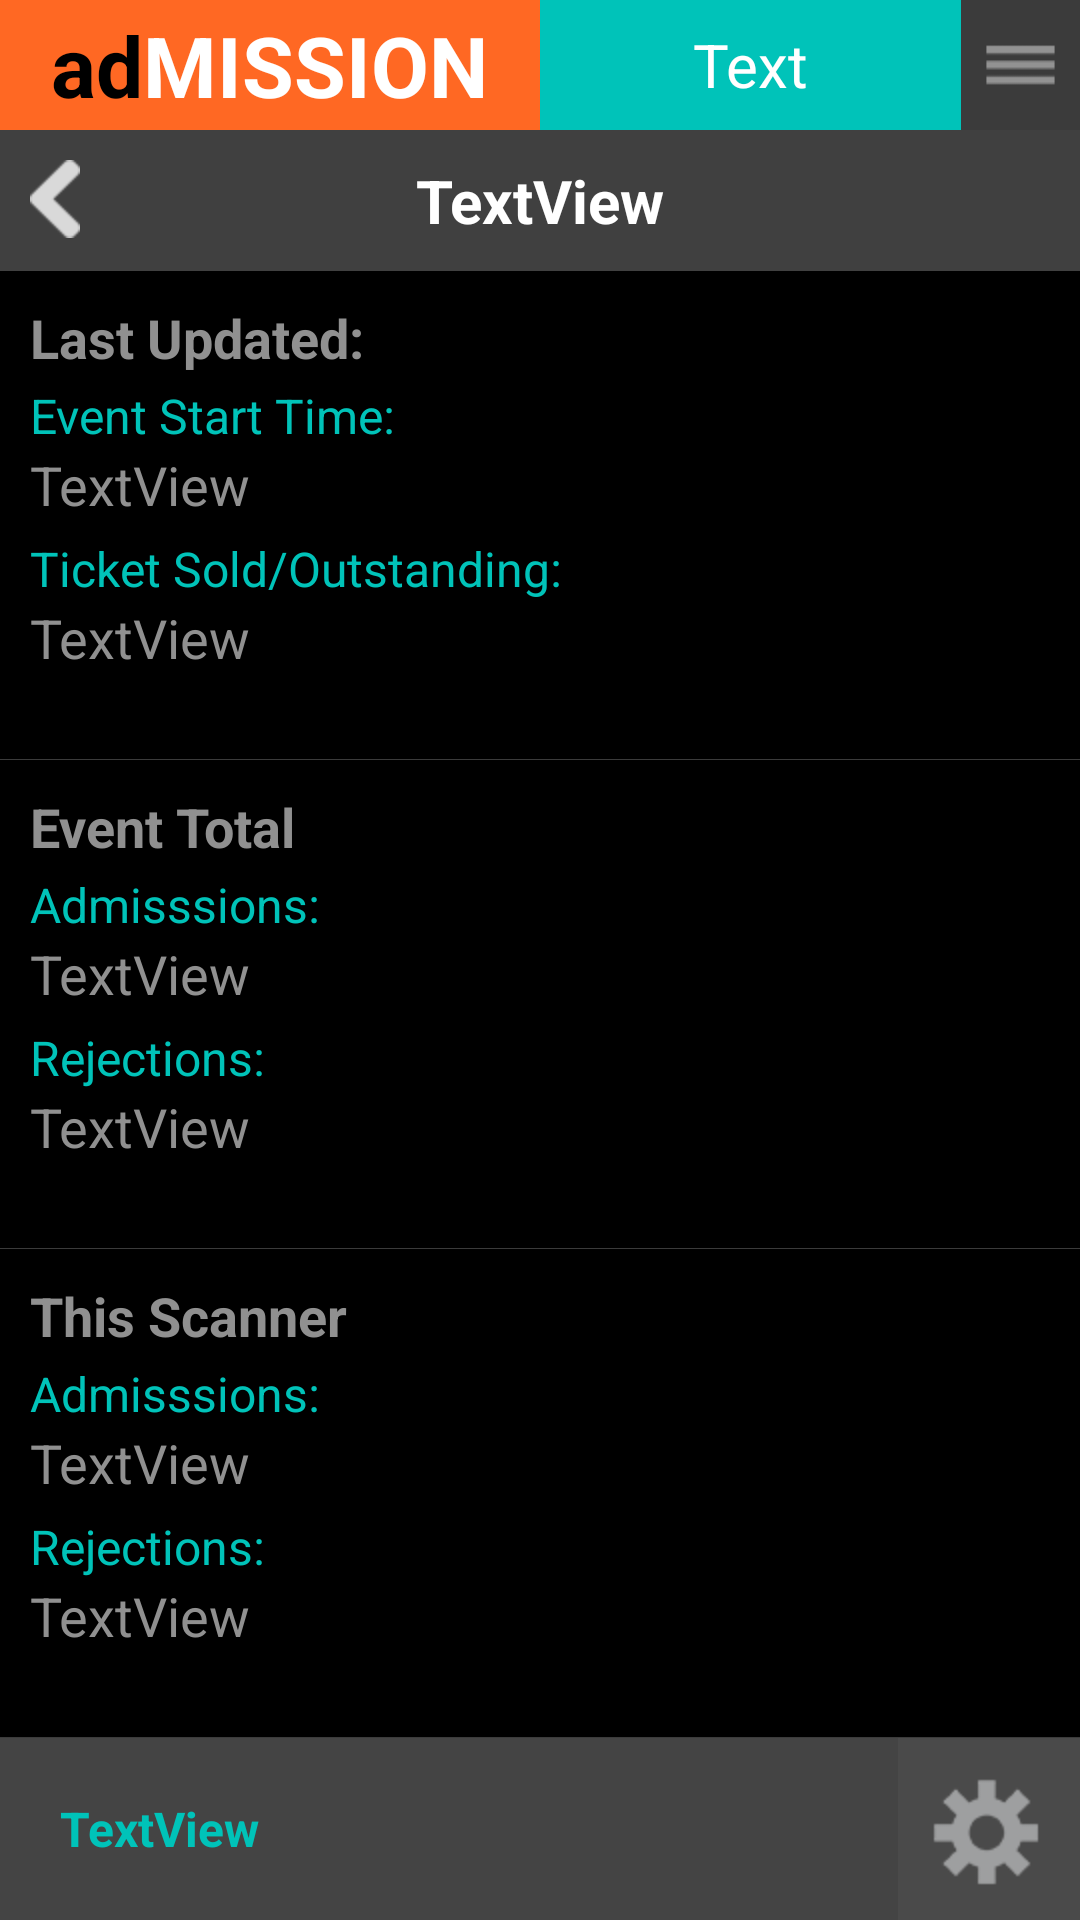

Icons on this 1080 x 1920 Android screen, each with the point to tap as point (x, y):
arrow: point (55, 199)
menu: point (1020, 64)
